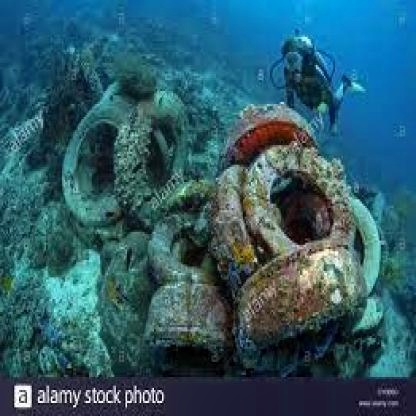tire: (232, 247, 373, 368), (232, 138, 351, 258), (46, 91, 132, 225), (122, 280, 238, 366), (110, 76, 182, 214), (209, 100, 324, 160), (338, 184, 388, 310), (143, 190, 206, 284), (203, 169, 251, 284)
